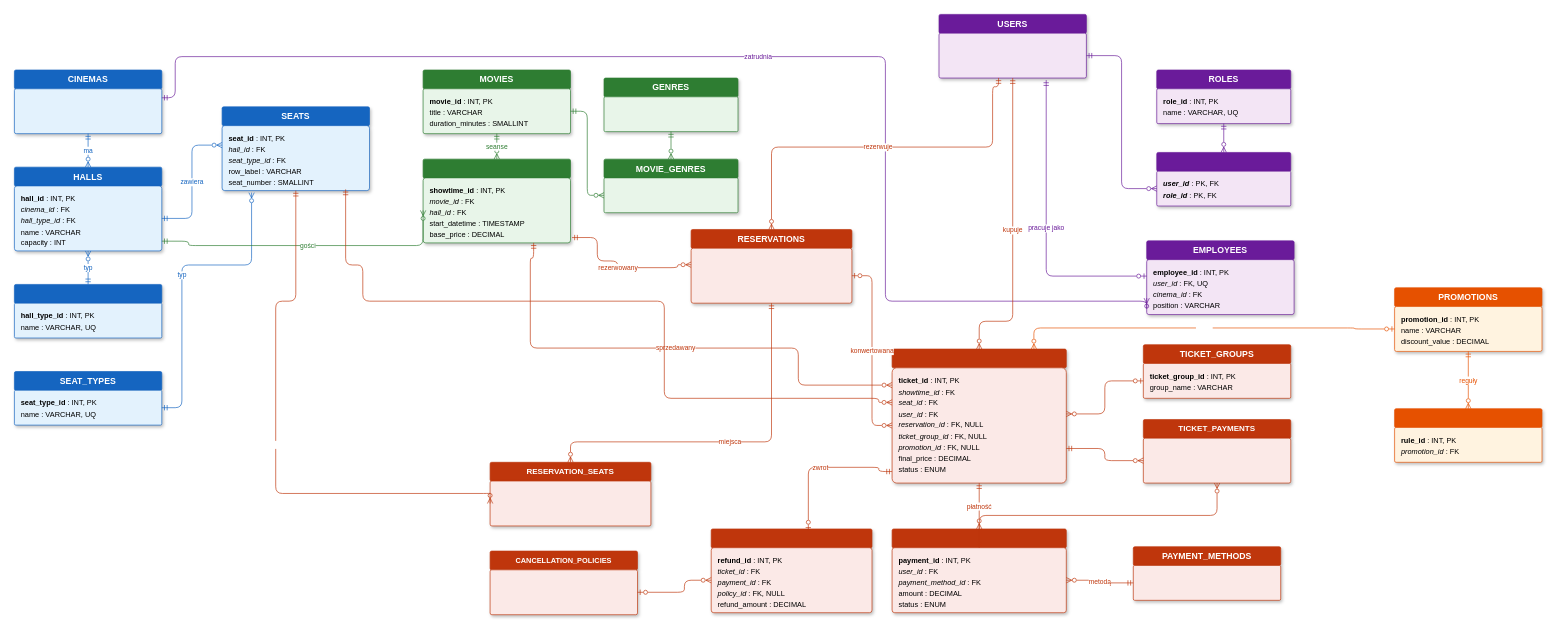
This 1558x631 diagram has some shape labels left out. The shapes that lost their labels are listed below. From the top down, each one's centre as x and y in pixels, then its label:
the point at 1013,56: user_id : INT, PK email : VARCHAR, UQ username : VARCHAR, UQ
the point at 88,111: cinema_id : INT, PK name : VARCHAR city : VARCHAR
the point at 671,114: genre_id : INT, PK name : VARCHAR, UQ
the point at 497,169: SHOWTIMES
the point at 1224,162: USER_ROLES
the point at 671,196: movie_id : PK, FK genre_id : PK, FK
the point at 88,294: HALL_TYPES
the point at 772,276: reservation_id : INT, PK user_id : FK showtime_id : FK status : ENUM
the point at 979,359: TICKETS
the point at 1468,418: PROMOTION_RULES
the point at 1217,461: ticket_id : PK, FK payment_id : PK, FK amount : DECIMAL
the point at 571,504: reservation_seat_id : INT, PK reservation_id : FK seat_id : FK
the point at 792,539: REFUNDS
the point at 979,539: PAYMENTS
the point at 564,592: policy_id : INT, PK name : VARCHAR, UQ refund_percent : DECIMAL
the point at 1207,583: payment_method_id : INT, PK name : VARCHAR, UQ
